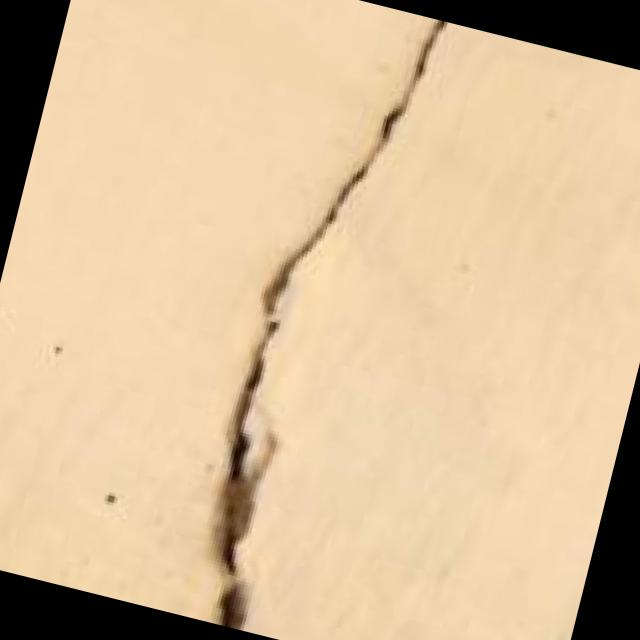crack: (128, 0, 496, 640)
